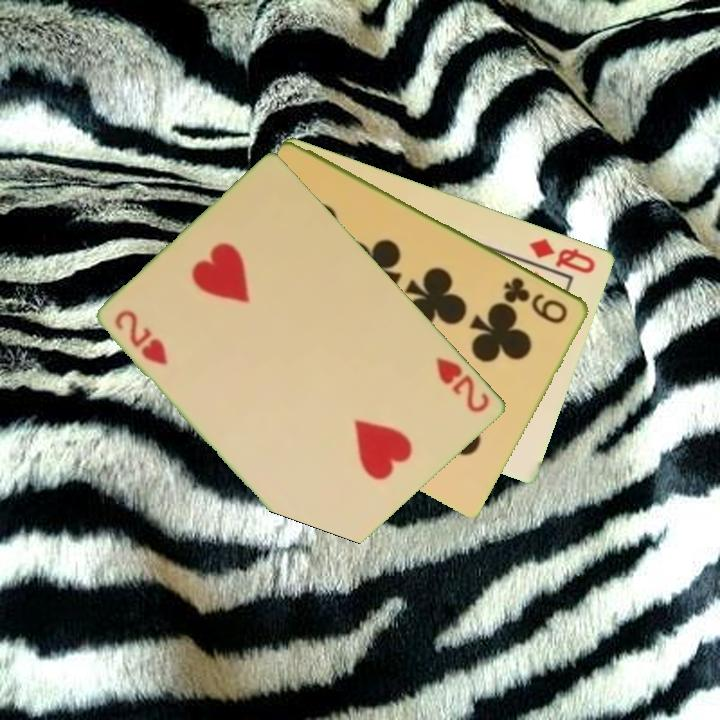2h: (432, 354, 493, 416), (111, 306, 172, 368)
9c: (500, 273, 572, 327)
Qd: (526, 234, 599, 276)
